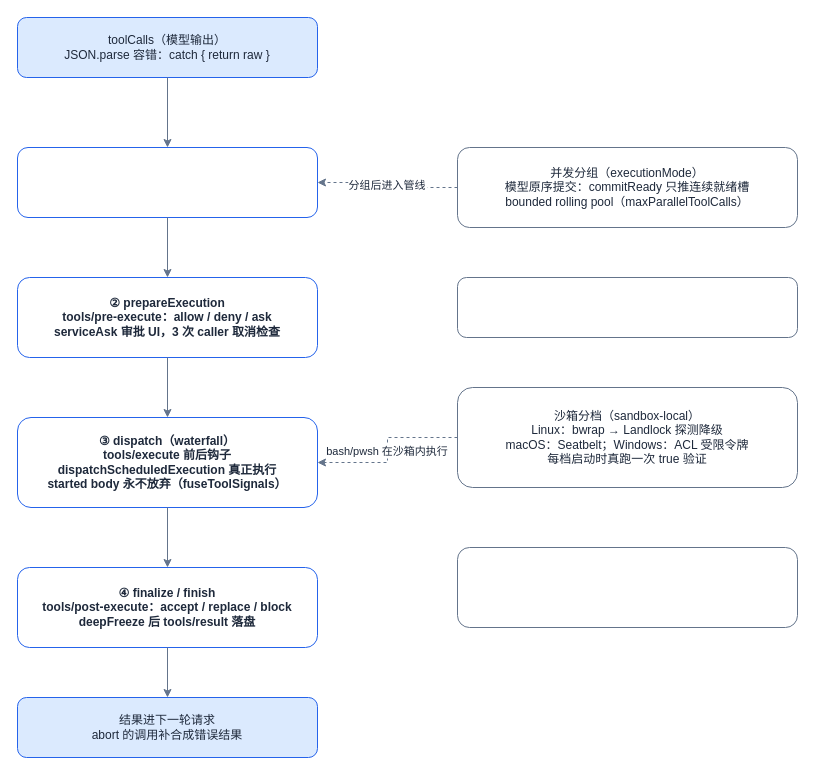
Some shapes in this 815 by 775 pixel diagram are drawn without their labels. Here are the shapes that lost their labels. From the top down, the centre of each, then its label:
At pixel 167 182: "① createExecution 参数快照 deepFreeze 输出 schema 校验器绑定".
At pixel 627 307: "fail-closed：没显式声明 isConcurrencySafe 一律 exclusive（整批排队）".
At pixel 627 587: "Code Mode：collapse 判定命中时 除 run_code 外全部折叠禁直调 SDK 渲染器 typescript / python".
